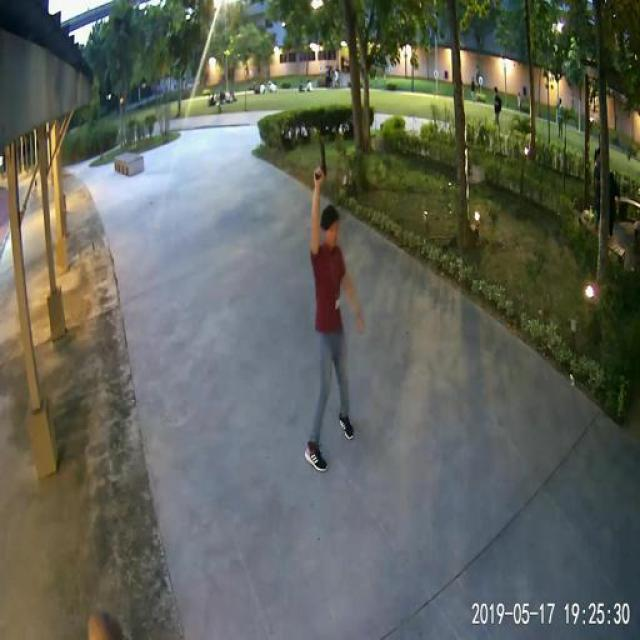Gun: (308, 135, 340, 183)
